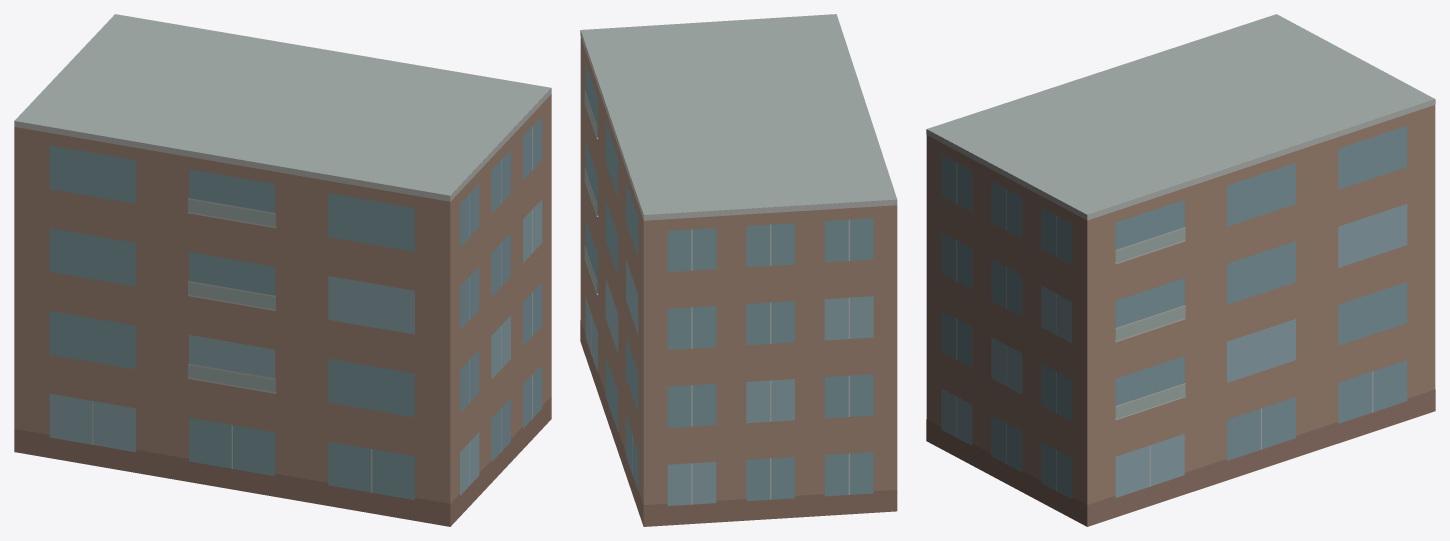
File: survey-upis-32733511.glb
3 renders of one model, left to right at view 1: azimuth 30°, elevation 25°; view 2: azimuth 150°, elevation 25°; view 3: azimuth 270°, elevation 25°, orthographic. The views are drawn at different scales.
Visible parts, largest first — view 1: survey-upis-32733511.tmp; view 2: survey-upis-32733511.tmp; view 3: survey-upis-32733511.tmp.
Part boxes in pixels (box(x1,y1,x2,y2)): survey-upis-32733511.tmp: box(14, 14, 551, 526); survey-upis-32733511.tmp: box(580, 14, 897, 526); survey-upis-32733511.tmp: box(926, 14, 1435, 526).
Size of the model in its own units: 18.51 by 13.4 by 19.82.
